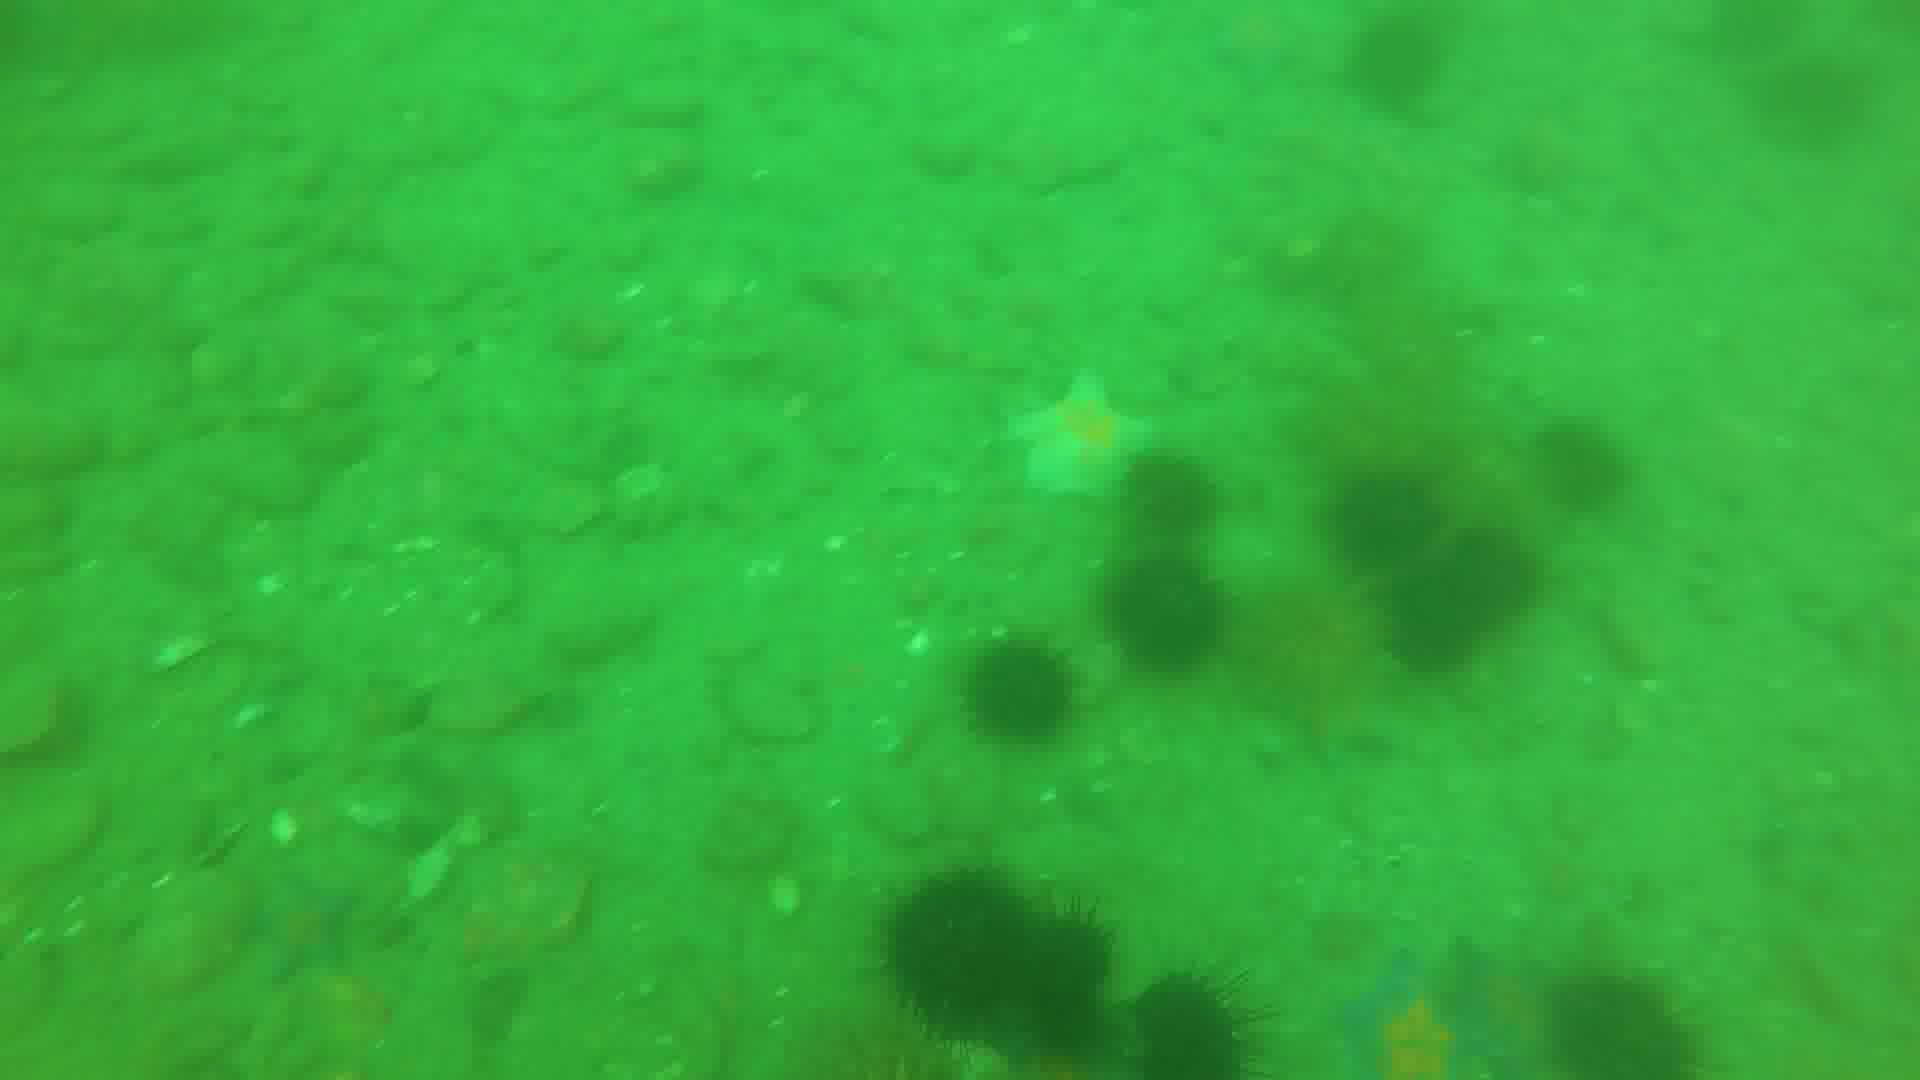echinus: (891, 862, 1038, 1031), (1557, 965, 1696, 1080), (1095, 556, 1228, 671), (1133, 965, 1255, 1080), (1756, 51, 1876, 154), (964, 633, 1077, 741), (1341, 462, 1443, 574), (1445, 520, 1545, 632), (1338, 15, 1447, 117), (1036, 887, 1120, 1013), (1114, 456, 1224, 549), (1375, 572, 1484, 661), (1543, 419, 1627, 524)
scallop: (406, 843, 464, 909), (142, 636, 222, 671), (622, 468, 665, 498), (770, 877, 802, 916), (268, 808, 301, 845)
starfish: (1341, 942, 1502, 1080), (1000, 373, 1151, 512), (247, 856, 361, 981)
